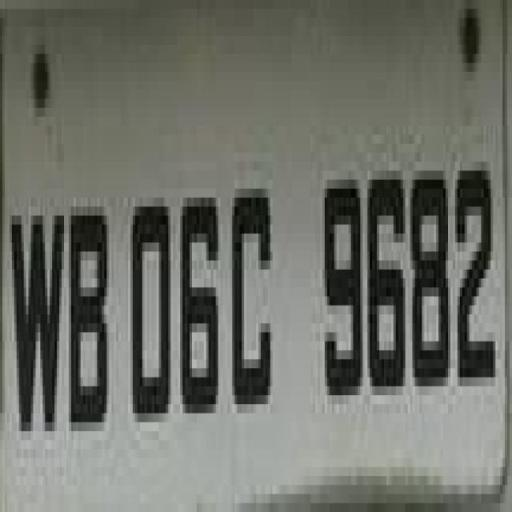number plate: (0, 6, 493, 463)
